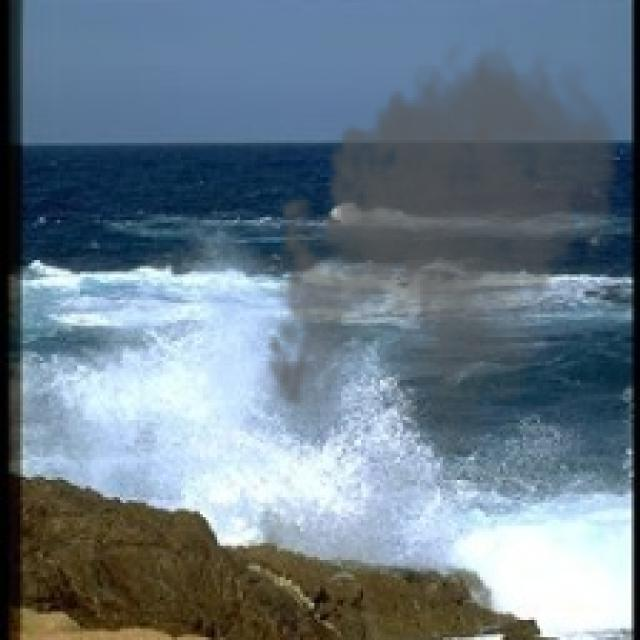smoke: (254, 29, 626, 454)
